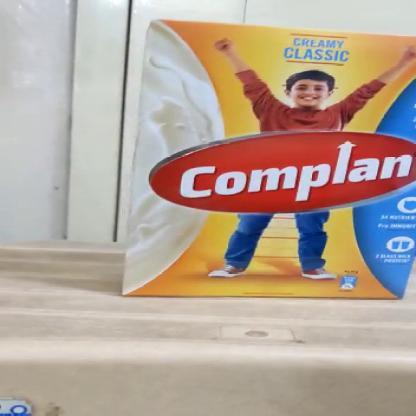Complan Classic Creme: (129, 25, 415, 300)
